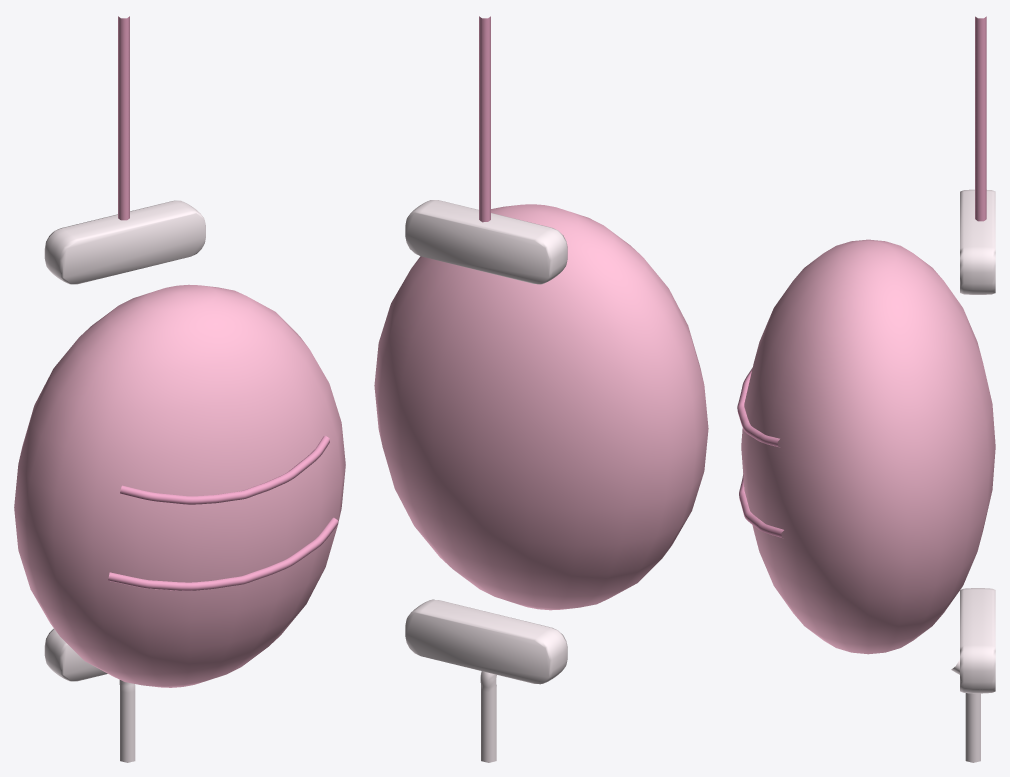
Rendered from decor_2_candy.glb.
3 views of the same model, side by side, from view 1: azimuth 30°, elevation 25°; view 2: azimuth 150°, elevation 25°; view 3: azimuth 270°, elevation 25° (orthographic).
Parts seen in each view (by area): view 1: decor_2_candy; view 2: decor_2_candy; view 3: decor_2_candy.
Part boxes in pixels (left/top/right/bottom): decor_2_candy: left=14, top=16, right=345, bottom=762; decor_2_candy: left=374, top=16, right=708, bottom=762; decor_2_candy: left=737, top=16, right=995, bottom=762.
Size of the model in its own units: 6 by 13.8 by 4.35.
